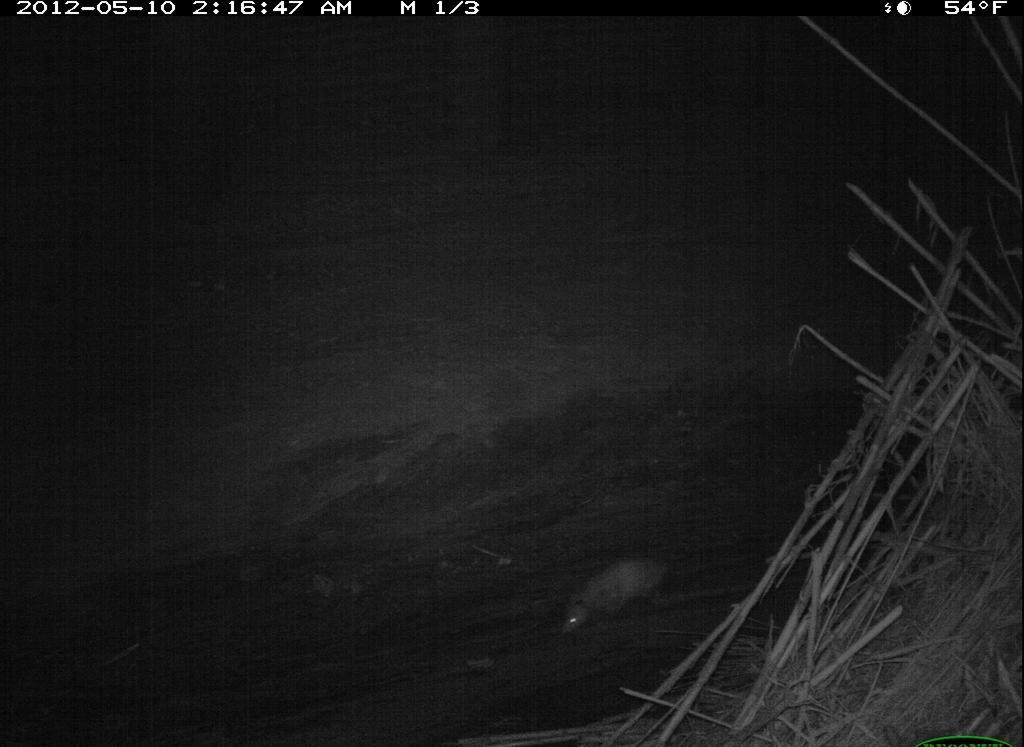opossum: (552, 548, 681, 652)
